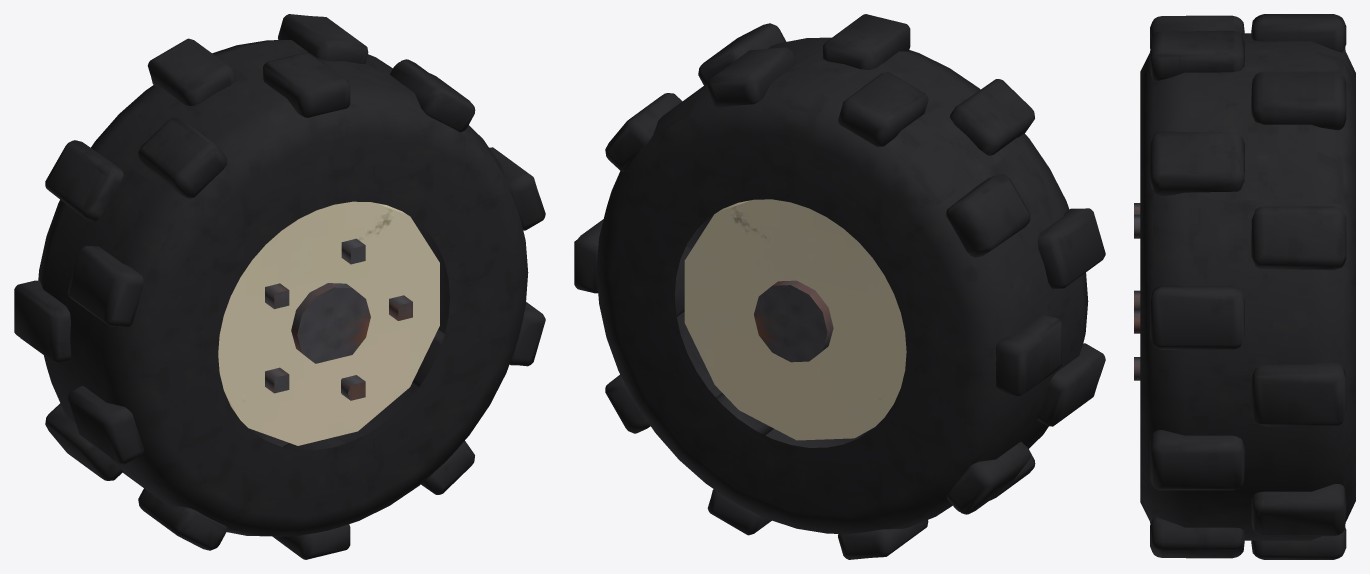
Rendered from jeep_wheel.glb.
3 renders of one model, left to right at view 1: azimuth 30°, elevation 25°; view 2: azimuth 150°, elevation 25°; view 3: azimuth 270°, elevation 25°, orthographic. The views are drawn at different scales.
Visible parts, largest first — view 1: jeep_wheel_Rubber, jeep_wheel_Paint_Cream, jeep_wheel_Metal; view 2: jeep_wheel_Rubber, jeep_wheel_Paint_Cream, jeep_wheel_Metal; view 3: jeep_wheel_Rubber, jeep_wheel_Metal.
Part boxes in pixels (x1,y1,x2,y2): jeep_wheel_Rubber: (14, 14, 545, 559); jeep_wheel_Paint_Cream: (218, 201, 439, 445); jeep_wheel_Metal: (265, 238, 412, 400); jeep_wheel_Rubber: (574, 14, 1105, 559); jeep_wheel_Paint_Cream: (684, 199, 906, 440); jeep_wheel_Metal: (754, 280, 833, 362); jeep_wheel_Rubber: (1140, 14, 1355, 559); jeep_wheel_Metal: (1134, 203, 1140, 380).
Bounding box in the file's own units: 0.86 × 0.86 × 0.35.
Materials: 3 (3 with a texture image).
